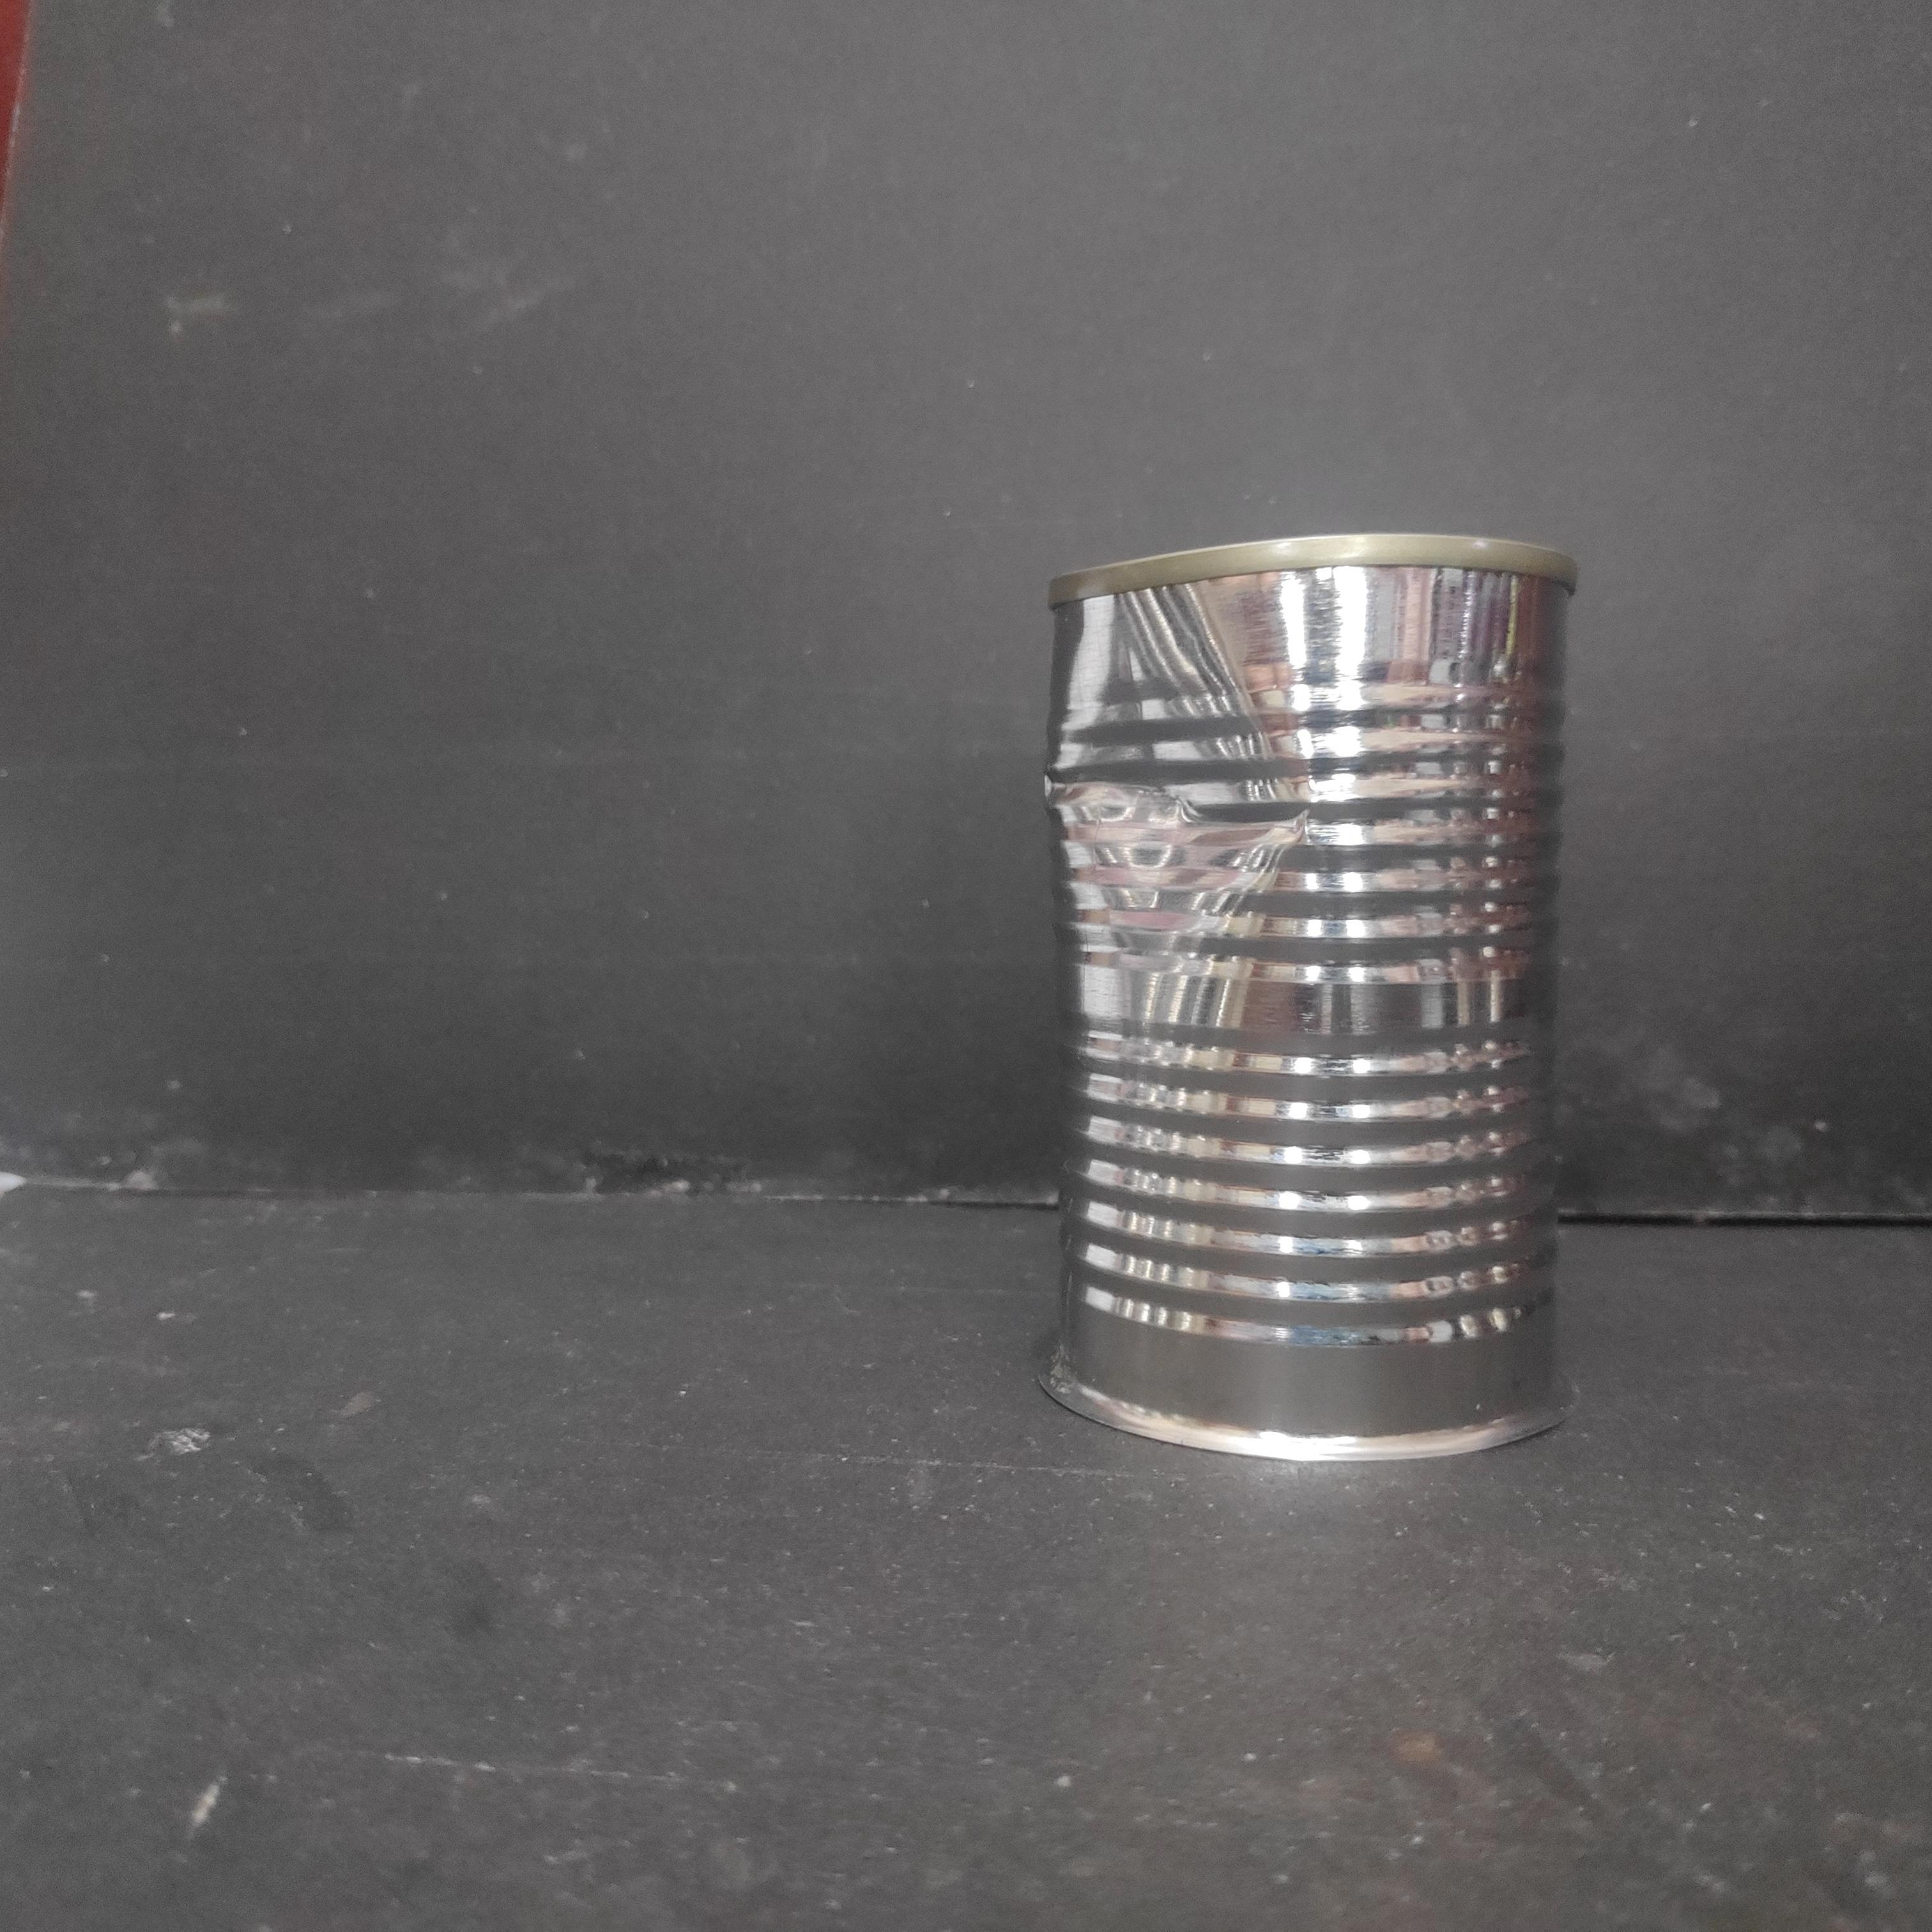Minor Defect: (1033, 511, 1589, 1474)
